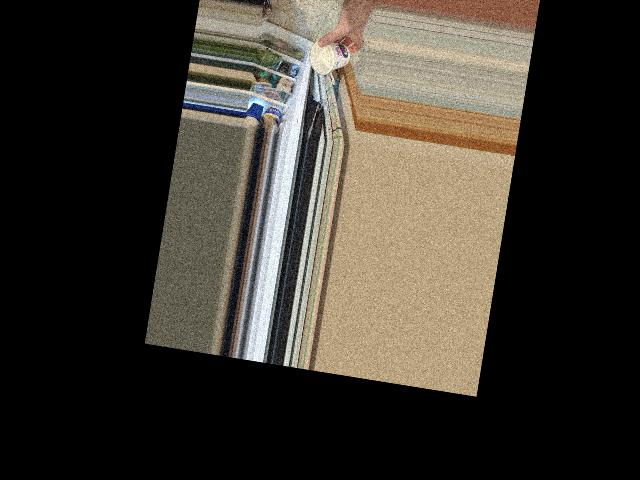cotage: (308, 37, 352, 75)
